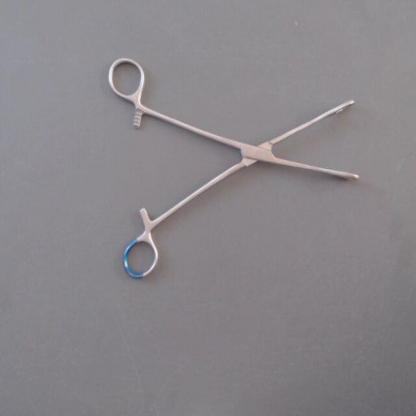Sponge Forceps: (99, 50, 368, 289)
